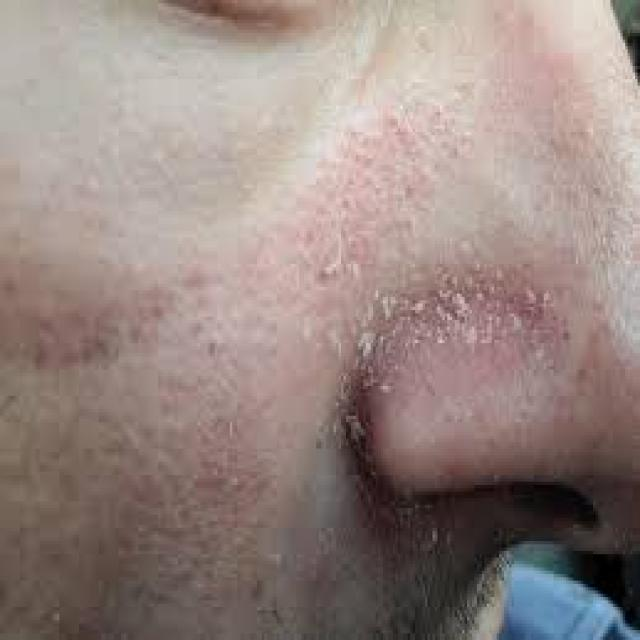flakiness: (304, 251, 547, 419)
